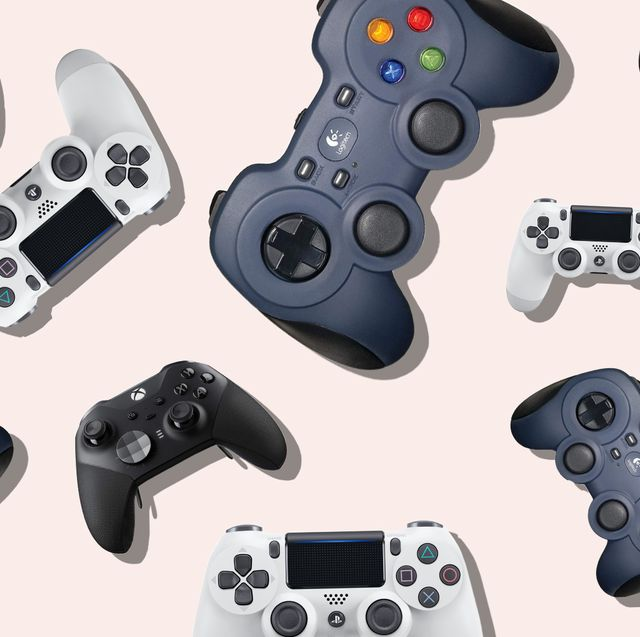controller: (210, 1, 561, 371), (74, 360, 287, 556)
